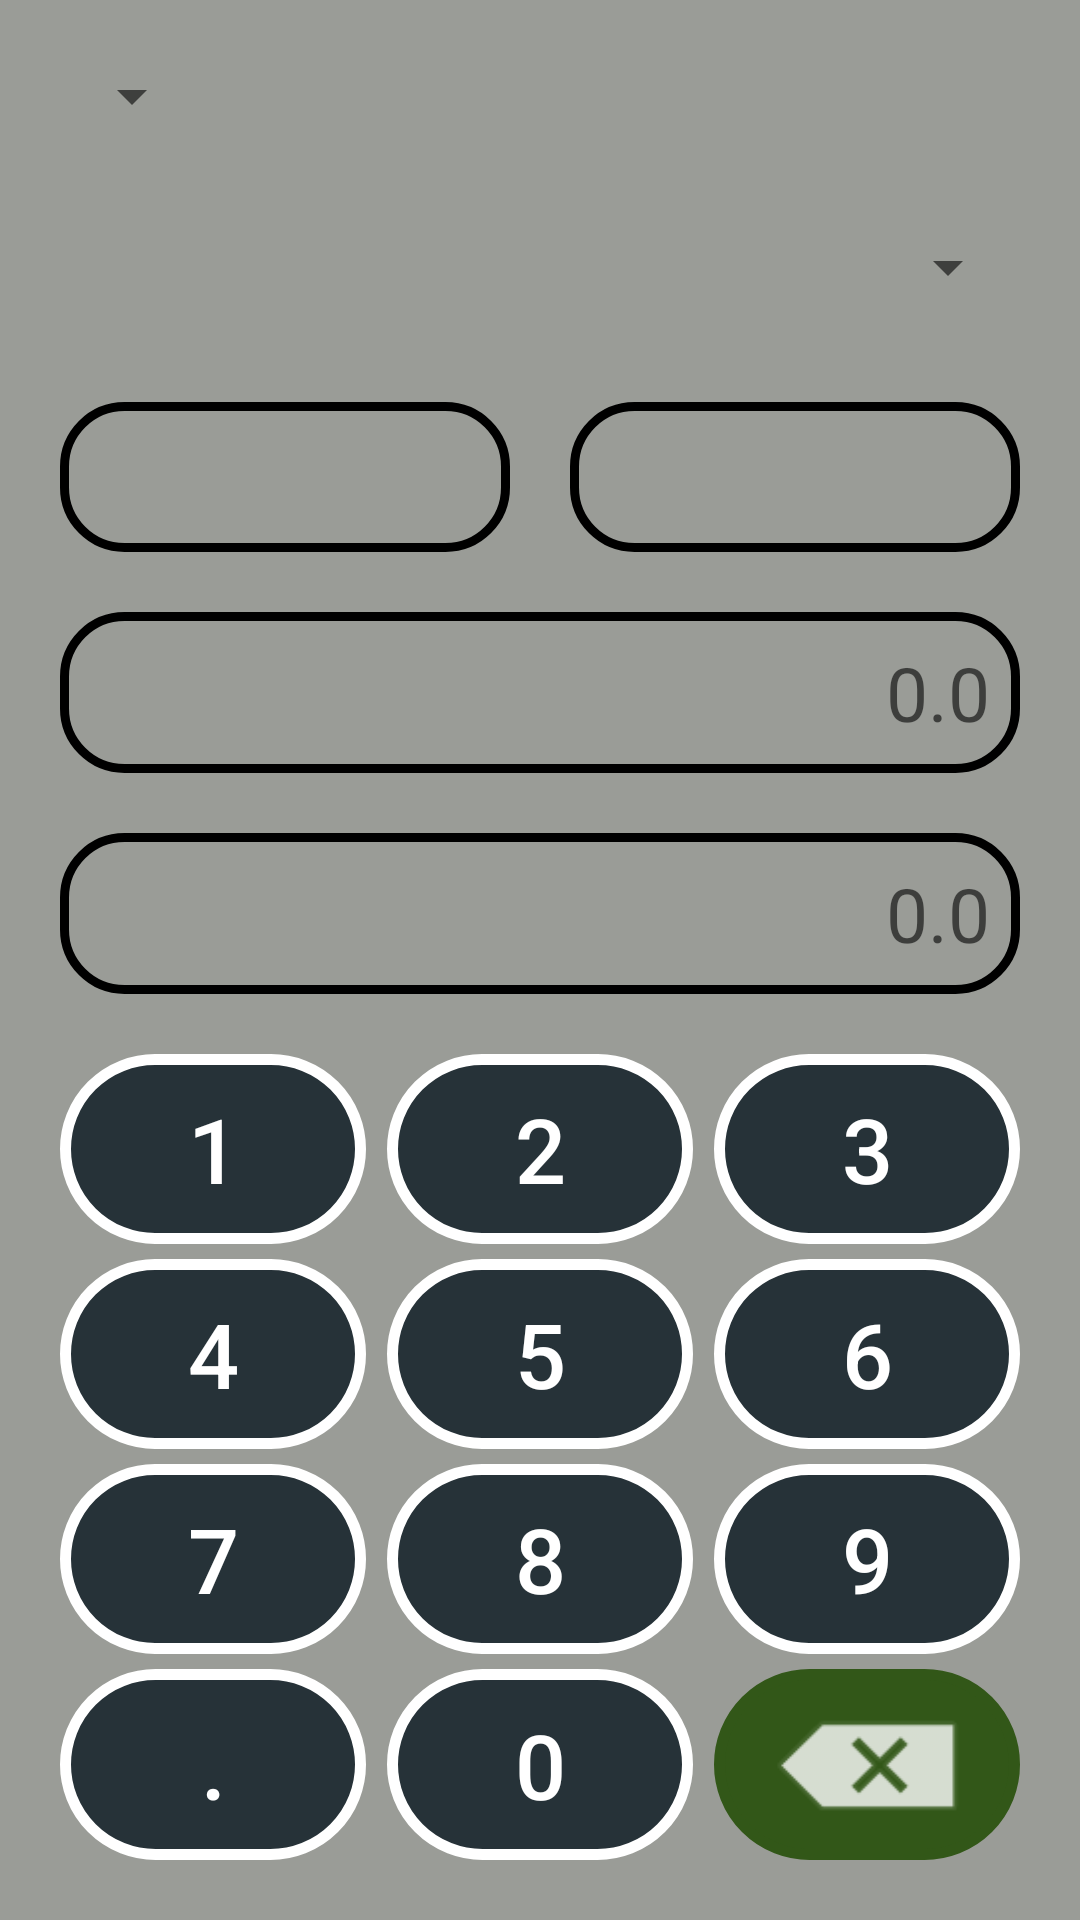

Where icons sit on this 1080px×1920px app screen, as [x1=x1, y1=y1, x2=x2, y2=y2]:
backspace: [x1=714, y1=1669, x2=1020, y2=1860]
